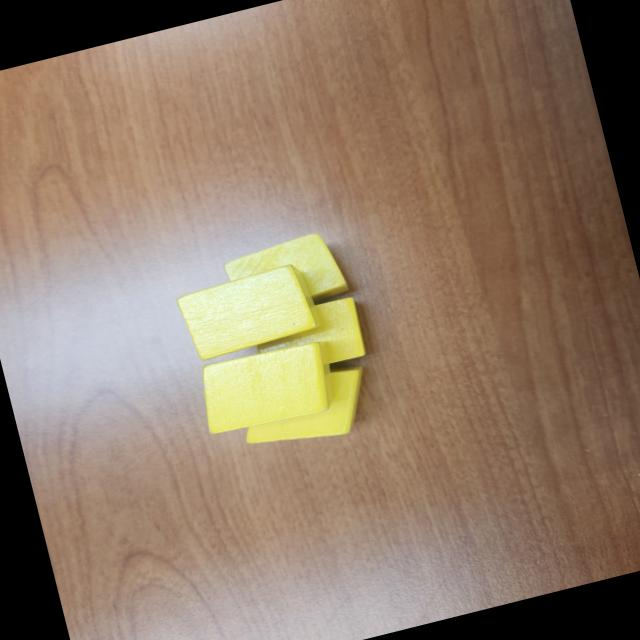yellow: (190, 332, 347, 440), (172, 259, 326, 365), (228, 360, 382, 460), (218, 227, 352, 321), (248, 294, 369, 382)
